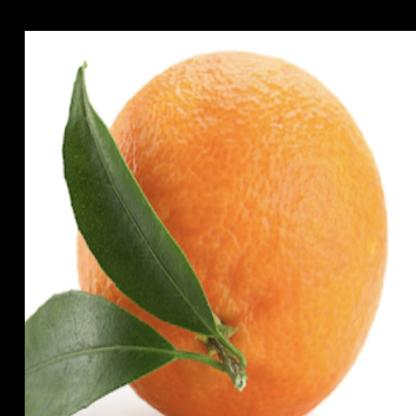rotten: (76, 48, 388, 416)
